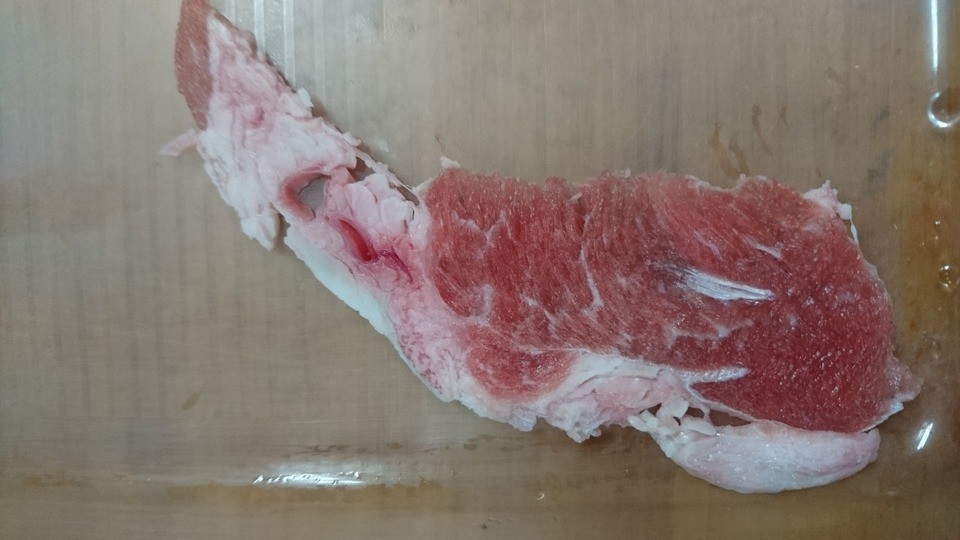restructured meat: (158, 2, 927, 496)
